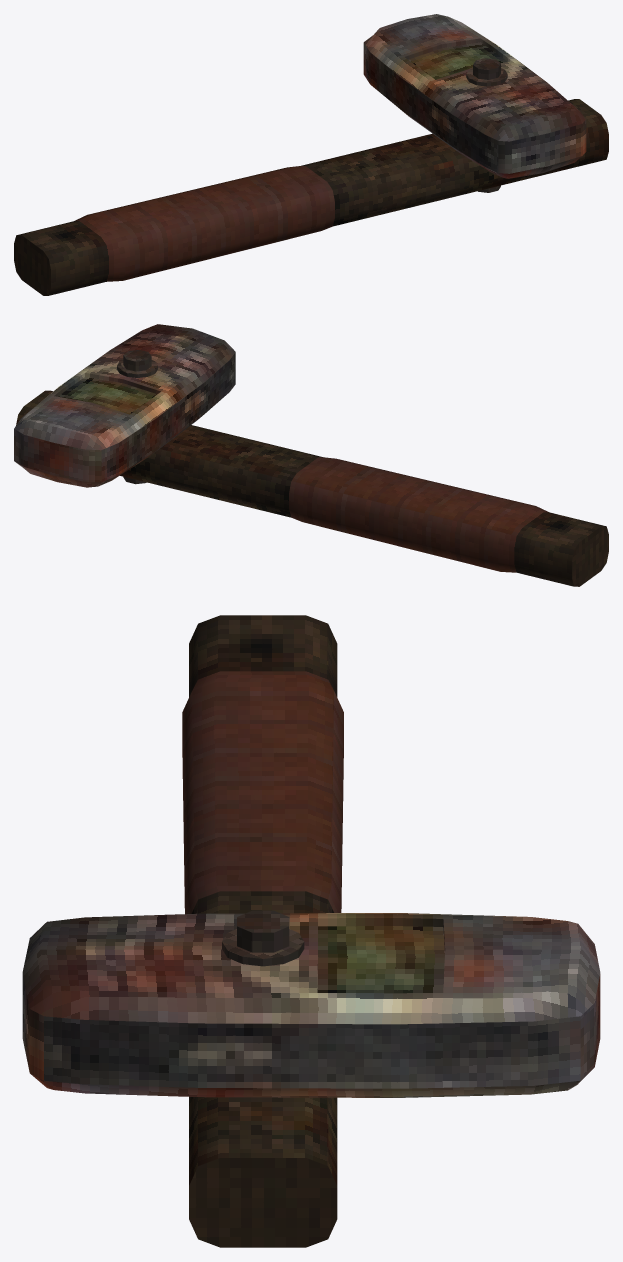
Rendered from cell_phone_hammer_mx_1.glb.
3 views of the same model, one above another, from view 1: azimuth 30°, elevation 25°; view 2: azimuth 150°, elevation 25°; view 3: azimuth 270°, elevation 25° (orthographic). The views are drawn at different scales.
Visible parts, largest first — view 1: cell_phone_hammer_mx_1; view 2: cell_phone_hammer_mx_1; view 3: cell_phone_hammer_mx_1.
Boxes of the visible parts, x1,y1,x2,y2 form: cell_phone_hammer_mx_1: [14, 14, 608, 295]; cell_phone_hammer_mx_1: [14, 324, 608, 586]; cell_phone_hammer_mx_1: [22, 615, 600, 1247].
Bounding box in the file's own units: 0.468 × 0.0986 × 0.2106.
1 material, 1 textured.
